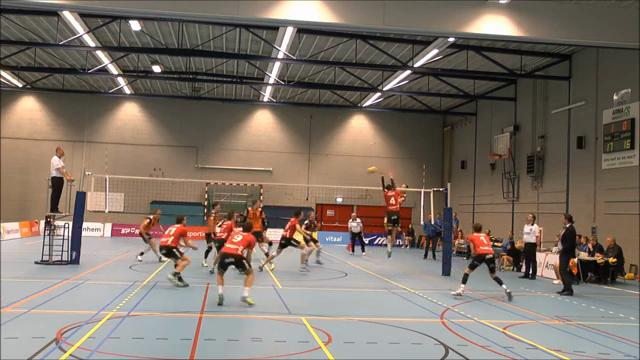Attack: (396, 176, 409, 216)
Block: (375, 170, 404, 259)
Player: (452, 223, 512, 300), (217, 222, 257, 306), (259, 210, 309, 271), (160, 216, 197, 286), (244, 200, 272, 258), (210, 211, 235, 273), (137, 209, 166, 261), (202, 202, 219, 266), (302, 211, 322, 264)
ball: (365, 164, 377, 174)
